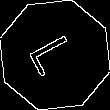L_NE: (25, 30, 85, 80)
